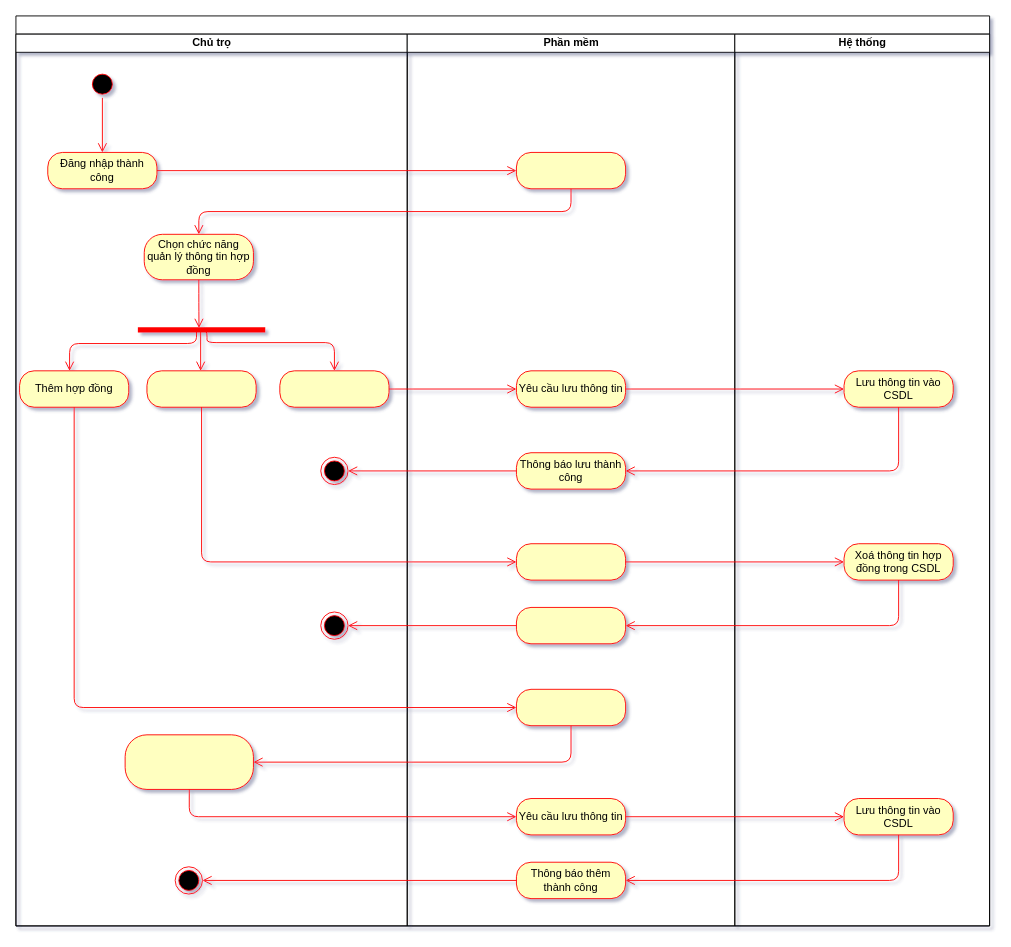
This 1011x947 diagram has some shape labels left out. The shapes that lost their labels are listed below. From the top down, each one's centre as x and y in pixels, then its label:
At (571,170): "Hiển thị form chính".
At (201,388): "Xoá hợp đồng".
At (334,388): "Cập nhật thông tin".
At (571,561): "Yêu cầu xoá thông tin hợp dồng".
At (571,625): "Thông báo xoá thông tin thành công".
At (571,707): "Hiển thị form tạo hợp đồng".
At (188,761): "Nhập thông tin khách và chọn phòng, nhấn thêm".
